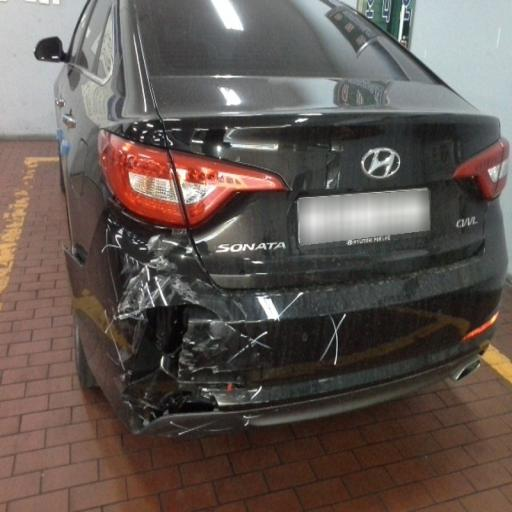dent: (282, 117, 421, 203)
scratch: (95, 123, 290, 437)
